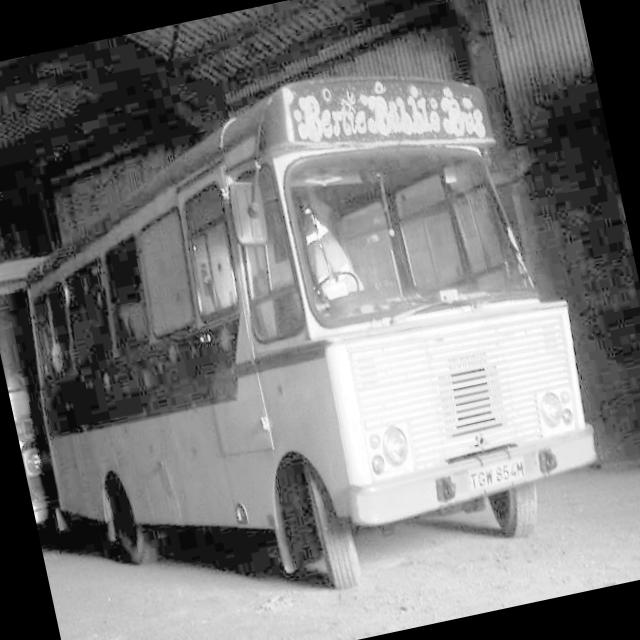Bus: (35, 72, 640, 639), (0, 198, 123, 532)
